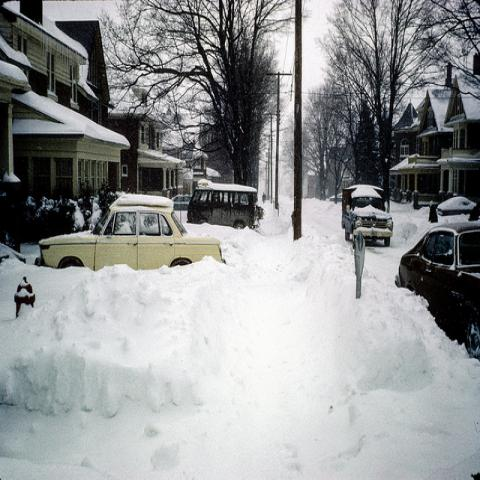car: (39, 194, 222, 272), (396, 216, 479, 355), (187, 183, 259, 229), (437, 196, 476, 217)
truck: (342, 184, 394, 250)
